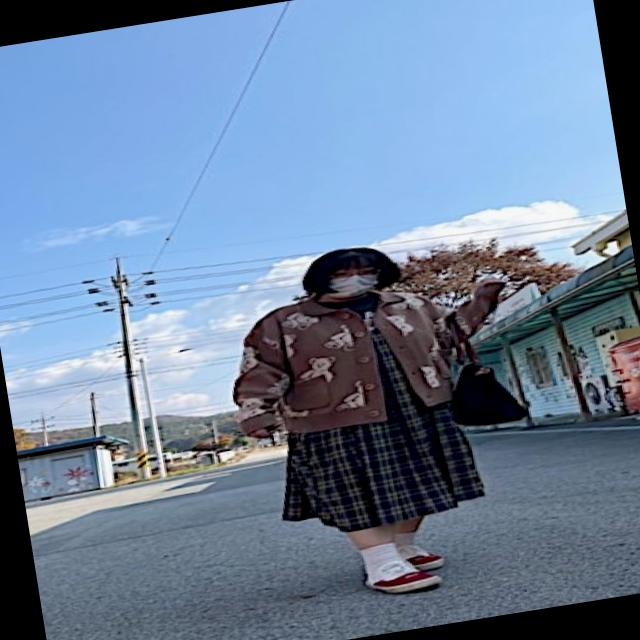cardigan: (220, 267, 530, 443)
skirt: (266, 386, 488, 542)
